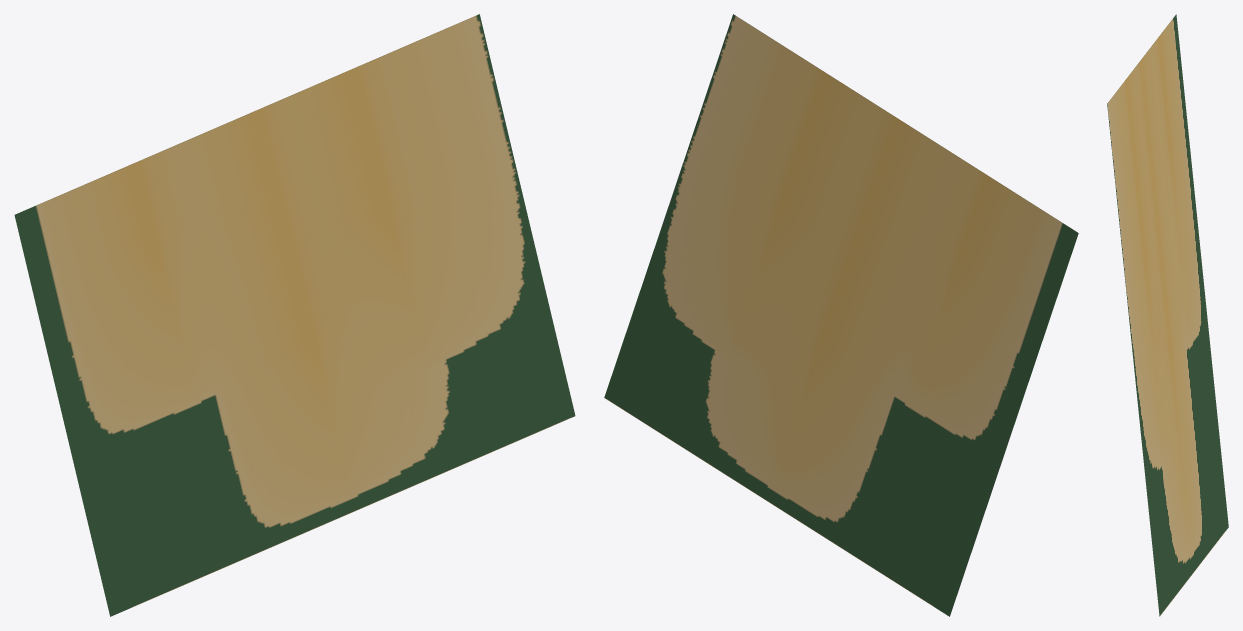
3 renders of one model, left to right at view 1: azimuth 30°, elevation 25°; view 2: azimuth 150°, elevation 25°; view 3: azimuth 270°, elevation 25°, orthographic. The views are drawn at different scales.
Parts seen in each view (by area): view 1: dynamiclight.png__; view 2: dynamiclight.png__; view 3: dynamiclight.png__.
Part boxes in pixels (x1,y1,x2,y2): dynamiclight.png__: (14, 14, 575, 616); dynamiclight.png__: (604, 14, 1078, 616); dynamiclight.png__: (1107, 14, 1228, 616).
Bounding box in the file's own units: 25.19 × 24.9 × 4.78.
Materials: 1 (1 with a texture image).
